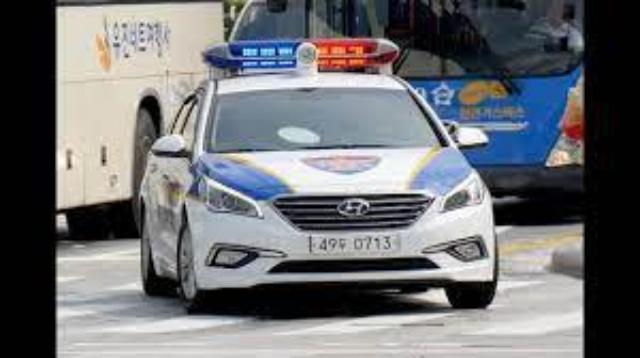police: (137, 41, 499, 311)
